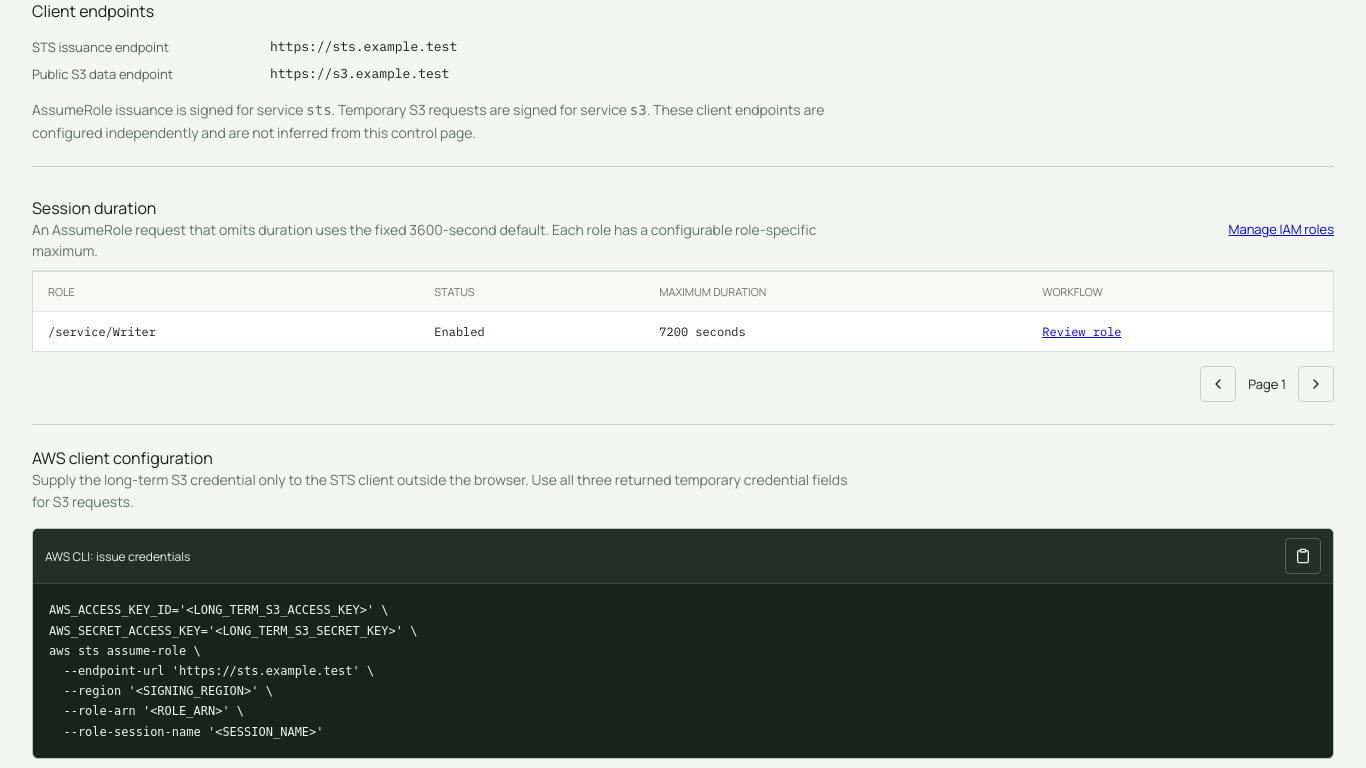
TemporaryCredentialsPage interactions › renders readiness and moves between cursor-based role pages
(page scrolled)
Expected: the text "/service/Writer" is shown, x1=33 y1=312 x2=419 y2=351
What coordinates should you click on to do the following:
click the button named "Next role page"
I would click on:
 (1316, 384)
Its box is x1=1298 y1=366 x2=1334 y2=402.
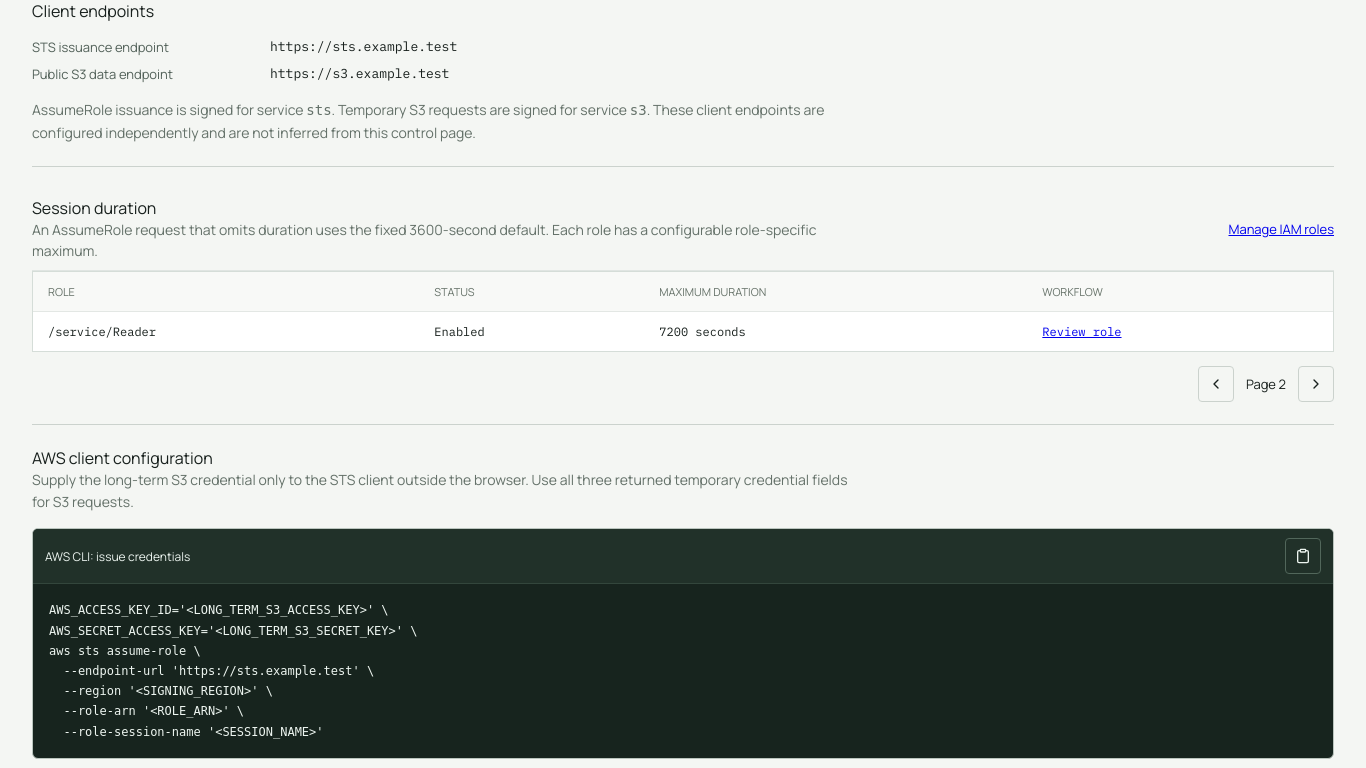
Expected: the text "/service/Reader" is shown, x1=33 y1=312 x2=419 y2=351
Expected: the text "Page 2" is shown, x1=1246 y1=375 x2=1286 y2=393
What coordinates should you click on to do the following:
click the button named "Previous role page"
I would click on:
 (1216, 384)
Its box is x1=1198 y1=366 x2=1234 y2=402.
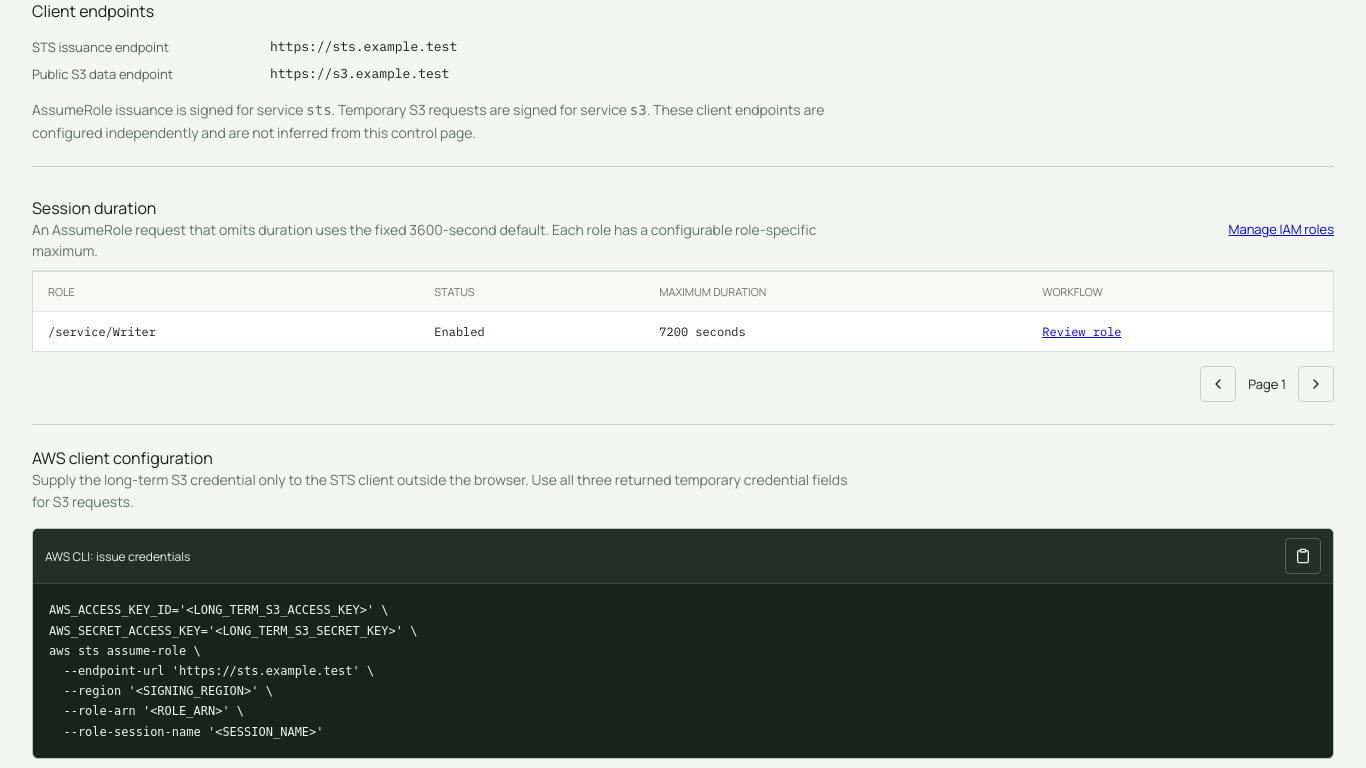
Expected: the text "/service/Writer" is shown, x1=33 y1=312 x2=419 y2=351
